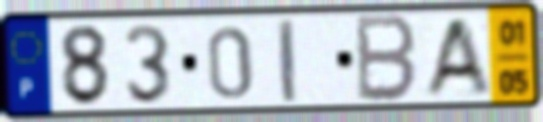0: (203, 23, 258, 101)
3: (122, 22, 175, 106)
8: (58, 23, 113, 109)
A: (419, 15, 494, 100)
B: (354, 12, 420, 105)
I: (274, 16, 300, 106)
